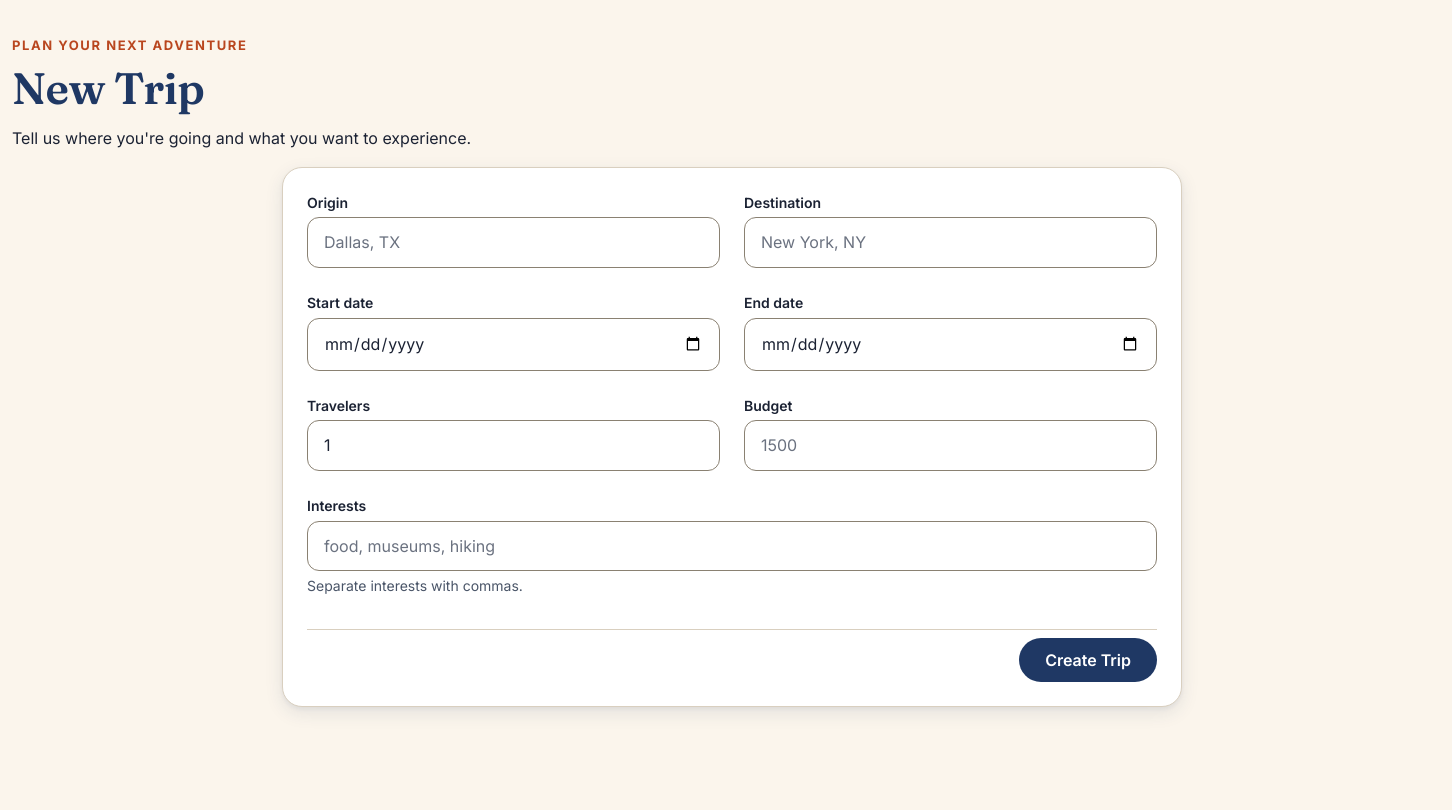
New Trip page › shows validation errors when the form is submitted empty
Click the button "Create Trip" at coordinates (1088, 660), box [1019,638,1157,682]
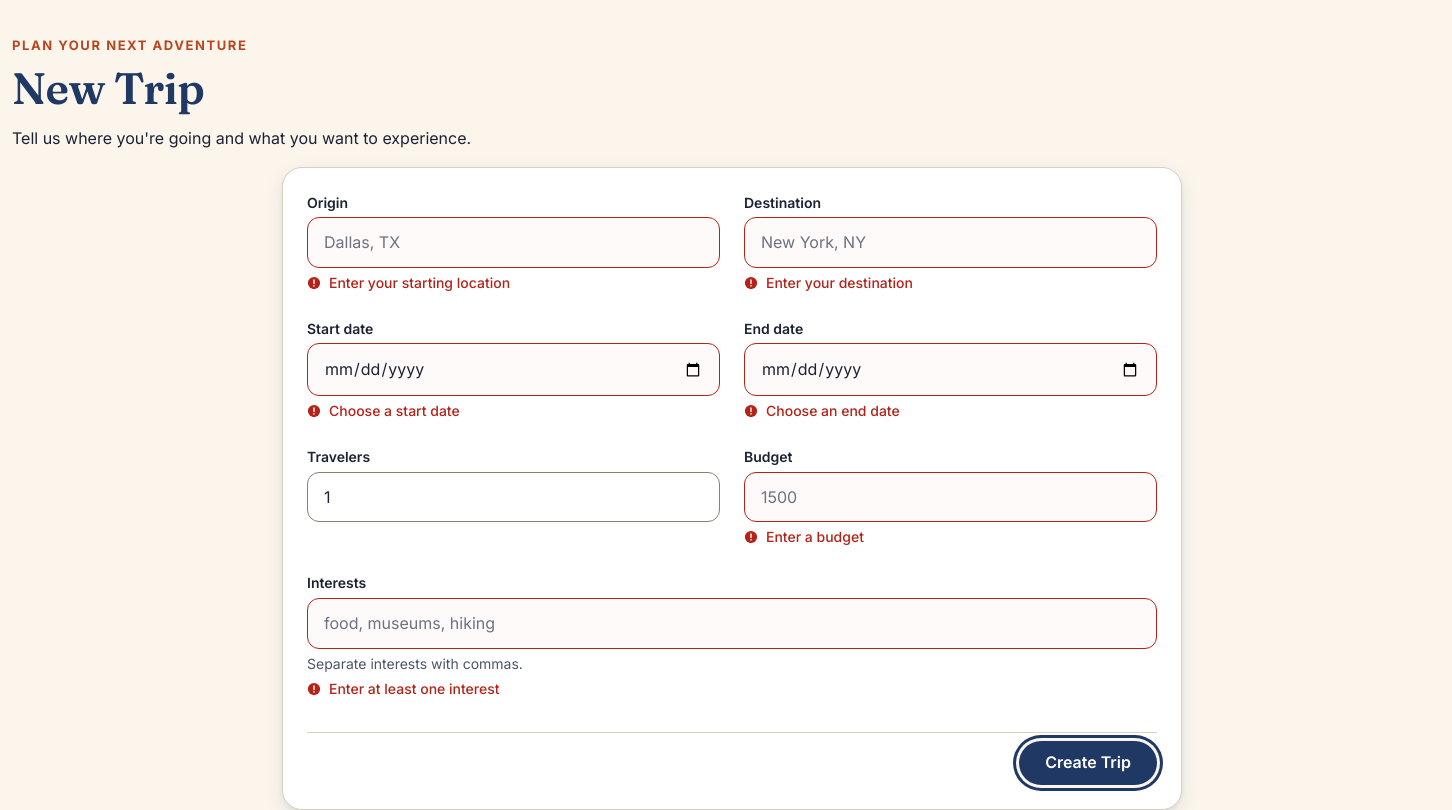
Expected: the text "Enter your starting location" is shown, [307,274,510,291]
Expected: the text "Enter your destination" is shown, [744,274,913,291]
Expected: the text "Choose a start date" is shown, [307,402,460,419]
